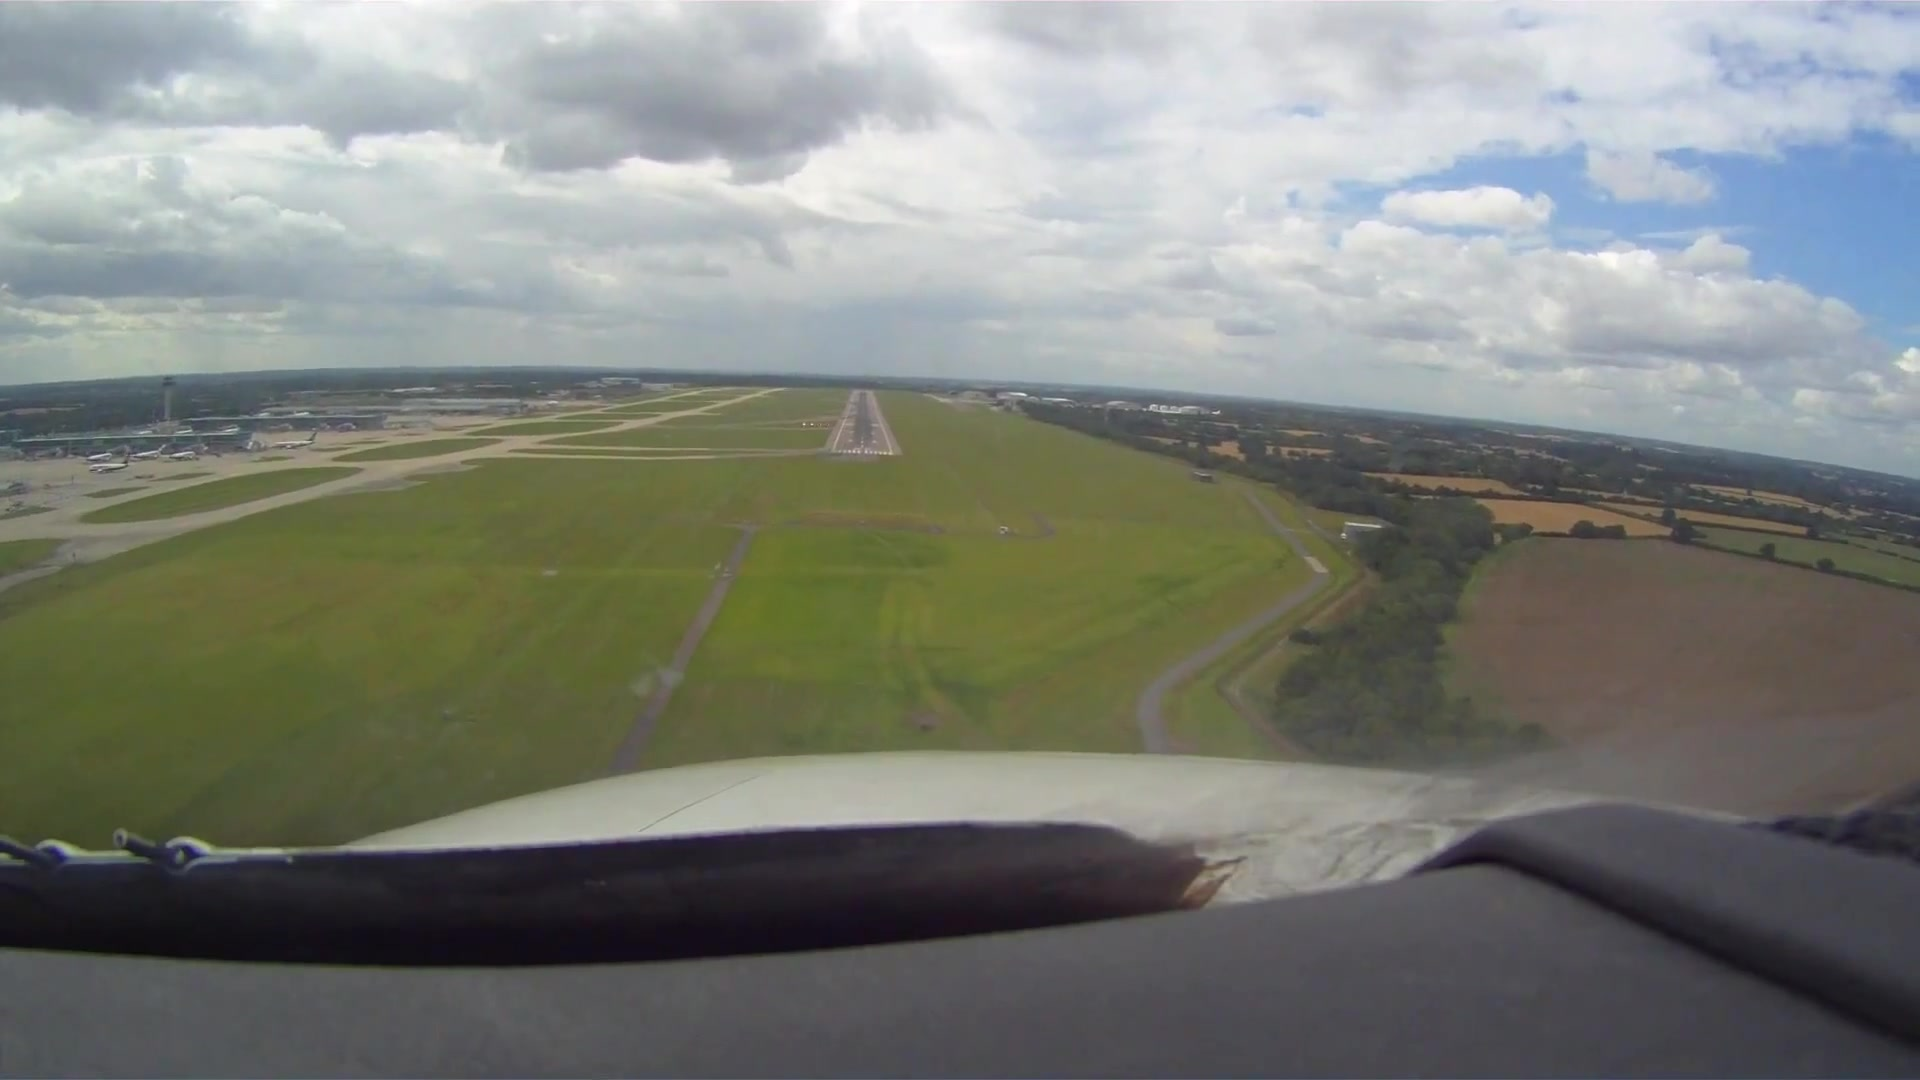entrance: (835, 448, 891, 455)
runway: (819, 388, 899, 458)
